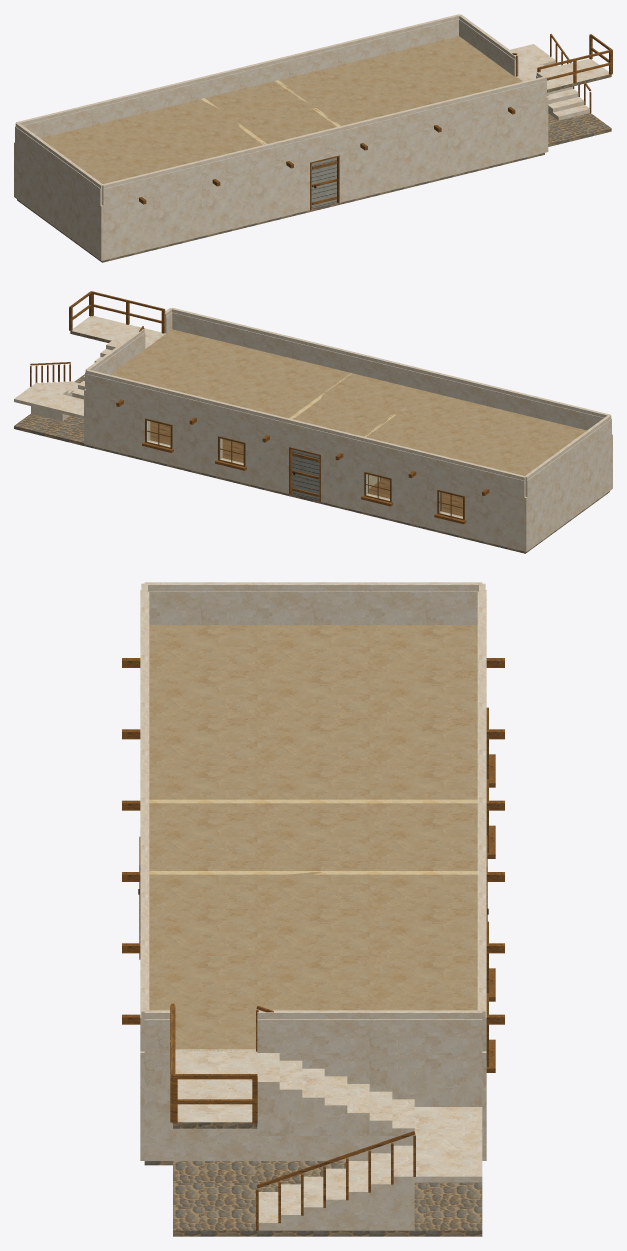
Rendered from frontier-adobe-barracks-stairs.gltf.
3 views of the same model, one above another, from view 1: azimuth 30°, elevation 25°; view 2: azimuth 150°, elevation 25°; view 3: azimuth 270°, elevation 25° (orthographic). The views are drawn at different scales.
Parts seen in each view (by area): view 1: exterior-L0-adobe, roof-L1-earth, roof-parapet-L1-adobe, floor-L0-stone, datum-band-L0-adobe, stairs-L0-adobe, walkway-L1-adobe, door-L0-door, guards-L1-wood, stairs-L0-wood, interior-L0-plaster; view 2: roof-L1-earth, exterior-L0-adobe, roof-parapet-L1-adobe, floor-L0-stone, stairs-L0-adobe, datum-band-L0-adobe, glazing-L0-glass, floor-L0-wood, facade-trim-L0-trim, walkway-L1-adobe, door-L0-door, guards-L1-wood (+3 smaller); view 3: roof-L1-earth, roof-parapet-L1-adobe, stairs-L0-adobe, exterior-L0-adobe, floor-L0-stone, walkway-L1-adobe, interior-L0-plaster, roof-trim-L1-wood, datum-band-L0-adobe, guards-L1-wood, stairs-L0-wood, facade-trim-L0-wood.
Part boxes in pixels (<box>): exterior-L0-adobe: <box>14,100,548,260</box>; roof-L1-earth: <box>40,36,522,183</box>; roof-parapet-L1-adobe: <box>15,14,546,205</box>; floor-L0-stone: <box>17,113,611,262</box>; datum-band-L0-adobe: <box>14,76,548,209</box>; stairs-L0-adobe: <box>510,44,589,120</box>; walkway-L1-adobe: <box>517,58,609,89</box>; door-L0-door: <box>311,157,336,208</box>; guards-L1-wood: <box>537,34,612,83</box>; stairs-L0-wood: <box>512,33,591,113</box>; interior-L0-plaster: <box>201,80,340,144</box>; roof-L1-earth: <box>110,329,586,475</box>; exterior-L0-adobe: <box>84,393,612,551</box>; roof-parapet-L1-adobe: <box>85,307,611,497</box>; floor-L0-stone: <box>14,374,609,553</box>; stairs-L0-adobe: <box>14,341,120,421</box>; datum-band-L0-adobe: <box>84,333,612,500</box>; glazing-L0-glass: <box>148,421,462,517</box>; floor-L0-wood: <box>150,421,462,515</box>; facade-trim-L0-trim: <box>145,418,464,520</box>; walkway-L1-adobe: <box>72,316,161,345</box>; door-L0-door: <box>292,449,319,500</box>; guards-L1-wood: <box>69,291,165,333</box>; roof-L1-earth: <box>149,625,477,1051</box>; roof-parapet-L1-adobe: <box>140,582,486,1052</box>; stairs-L0-adobe: <box>257,1053,482,1230</box>; exterior-L0-adobe: <box>140,1059,486,1160</box>; floor-L0-stone: <box>144,1161,482,1236</box>; walkway-L1-adobe: <box>175,1051,257,1122</box>; interior-L0-plaster: <box>149,799,477,874</box>; roof-trim-L1-wood: <box>122,658,504,1024</box>; datum-band-L0-adobe: <box>140,1049,486,1059</box>; guards-L1-wood: <box>170,1003,257,1123</box>; stairs-L0-wood: <box>256,1005,415,1230</box>; facade-trim-L0-wood: <box>486,754,495,1072</box>.
Size of the model in its own units: 21.13 by 3.18 by 6.81.
Materials: 9 (8 with a texture image).
